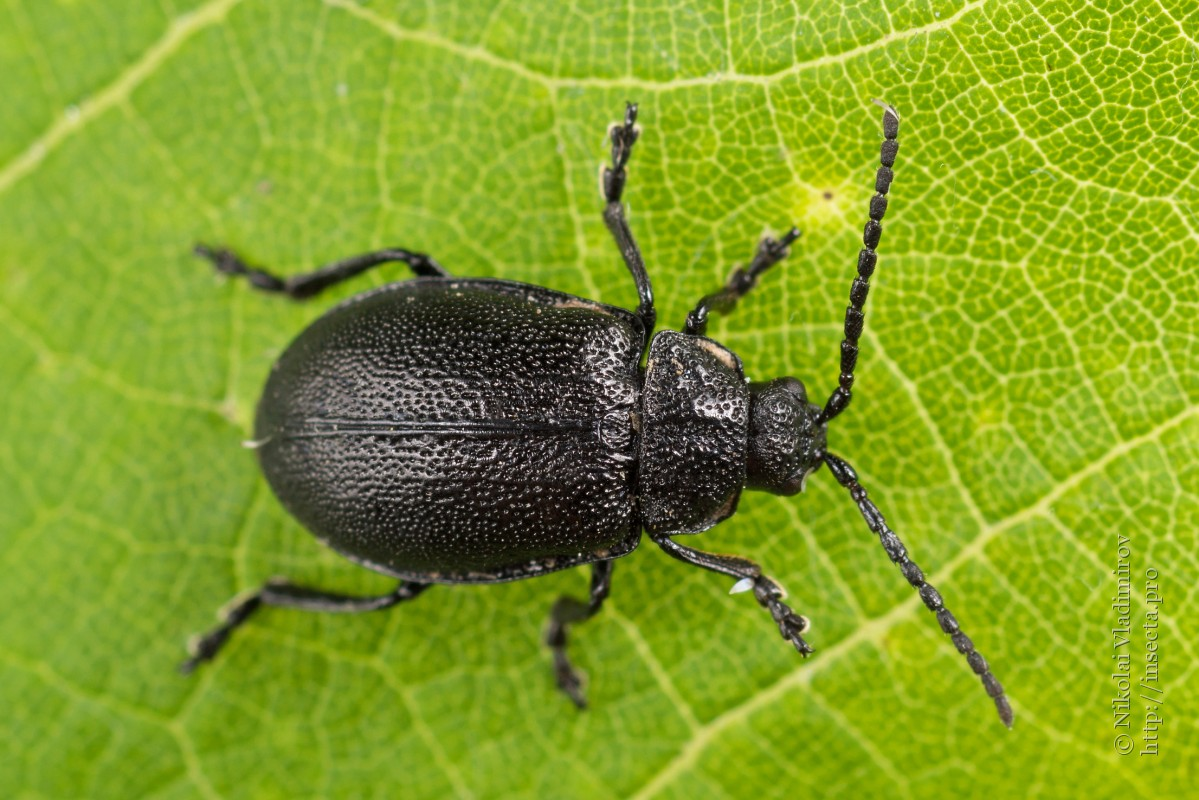Galeruca_tanaceti: (164, 93, 1019, 745)
